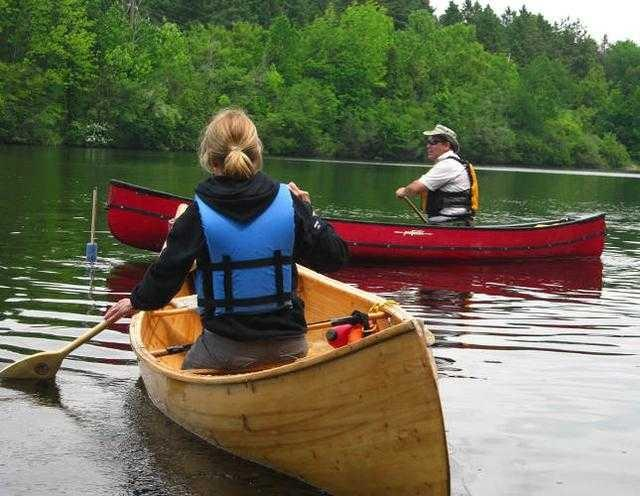kayak: (129, 264, 452, 490), (324, 211, 606, 265), (105, 178, 193, 254)
